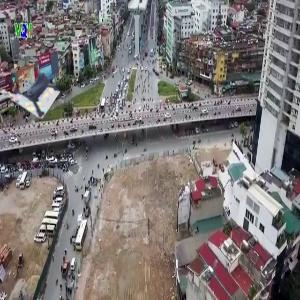drone: (3, 49, 65, 111)
